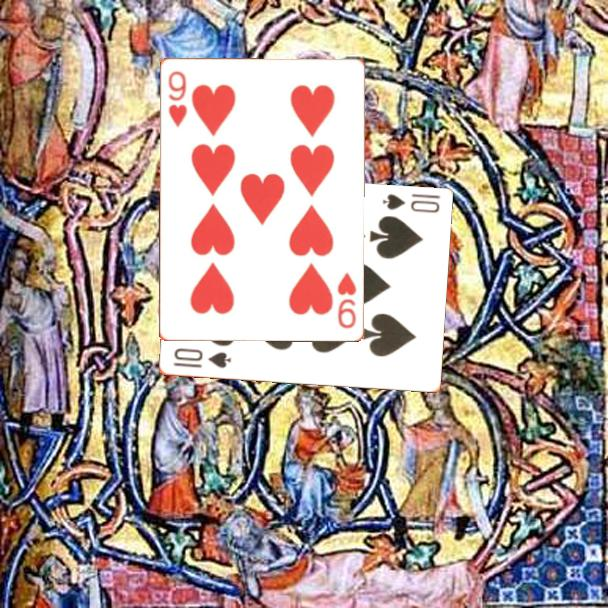h09: (165, 67, 189, 130), (334, 269, 358, 331)
s10: (170, 345, 234, 371), (379, 191, 443, 216)
